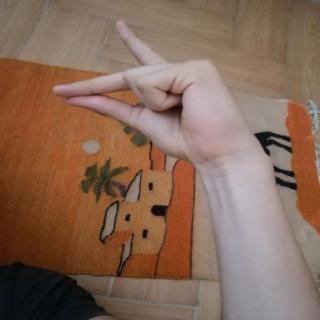TAA: (41, 12, 260, 167)
